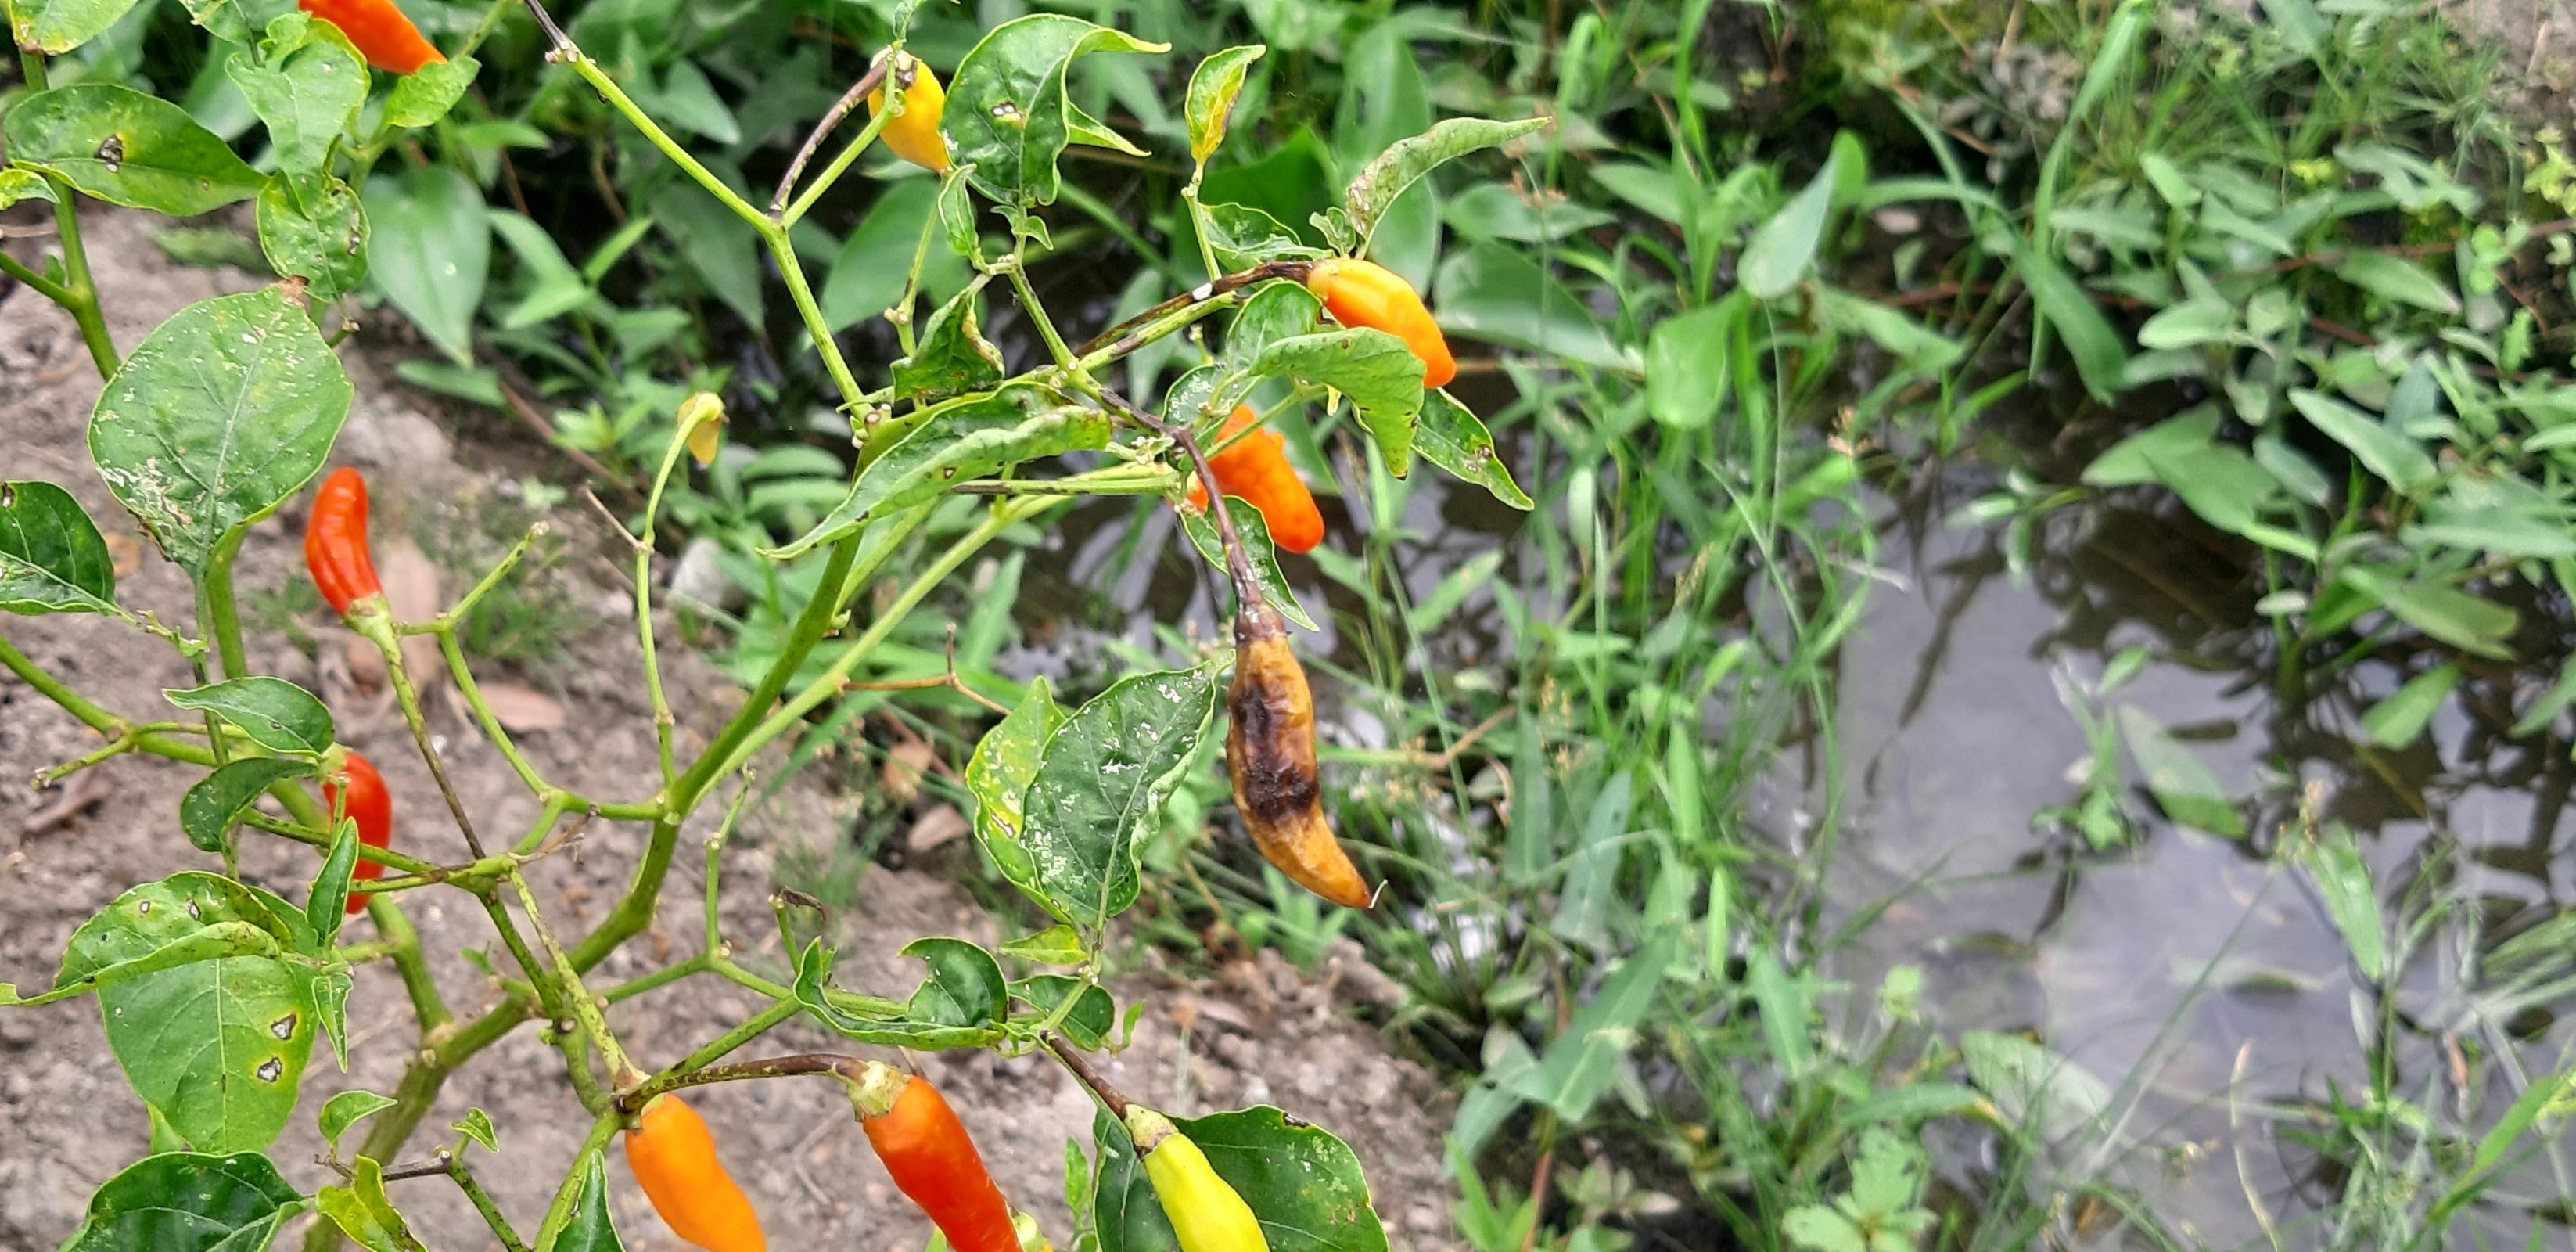antraknosa: (1217, 624, 1378, 914)
cabai_normal: (828, 1042, 1046, 1252), (601, 1071, 769, 1252), (1181, 404, 1322, 552), (1306, 258, 1460, 391), (1129, 1116, 1272, 1250), (309, 467, 391, 626), (319, 753, 401, 912), (296, 0, 452, 82), (867, 53, 958, 171)
